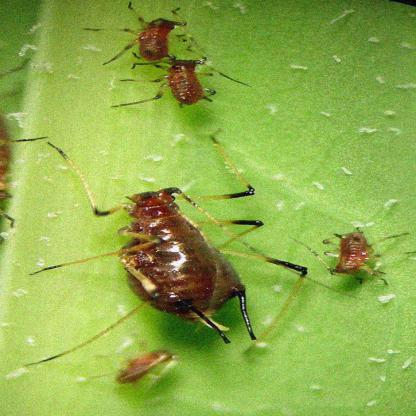uroleucon compositae: (95, 187, 305, 332)
